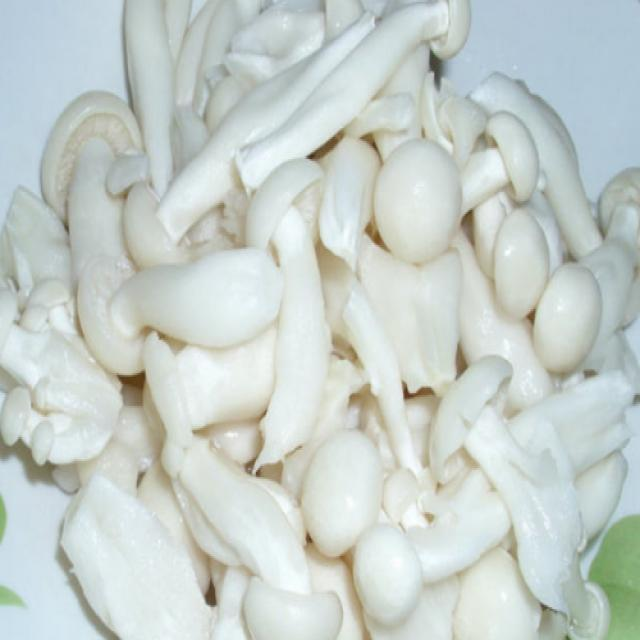Hypsizygus marmoreus: (3, 0, 631, 640)
